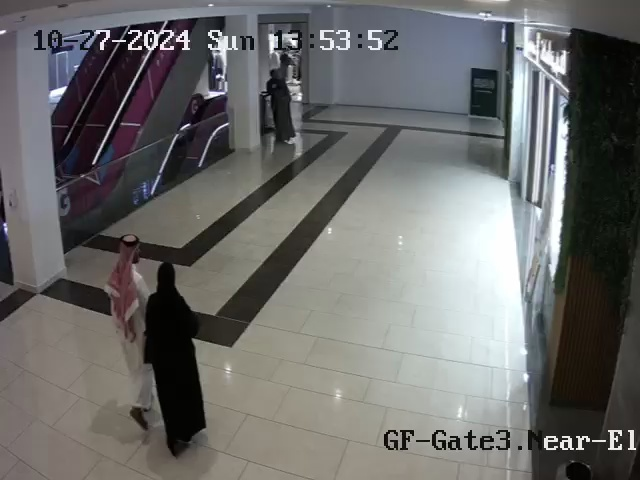female: (147, 254, 207, 448), (266, 60, 297, 145)
male: (107, 239, 151, 424)
